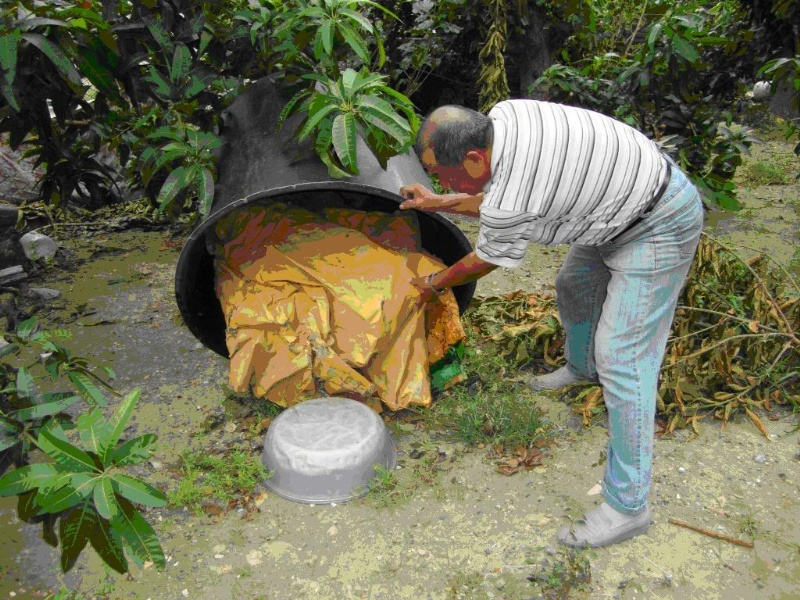bowl: (259, 396, 397, 503)
bucket: (173, 72, 472, 359)
